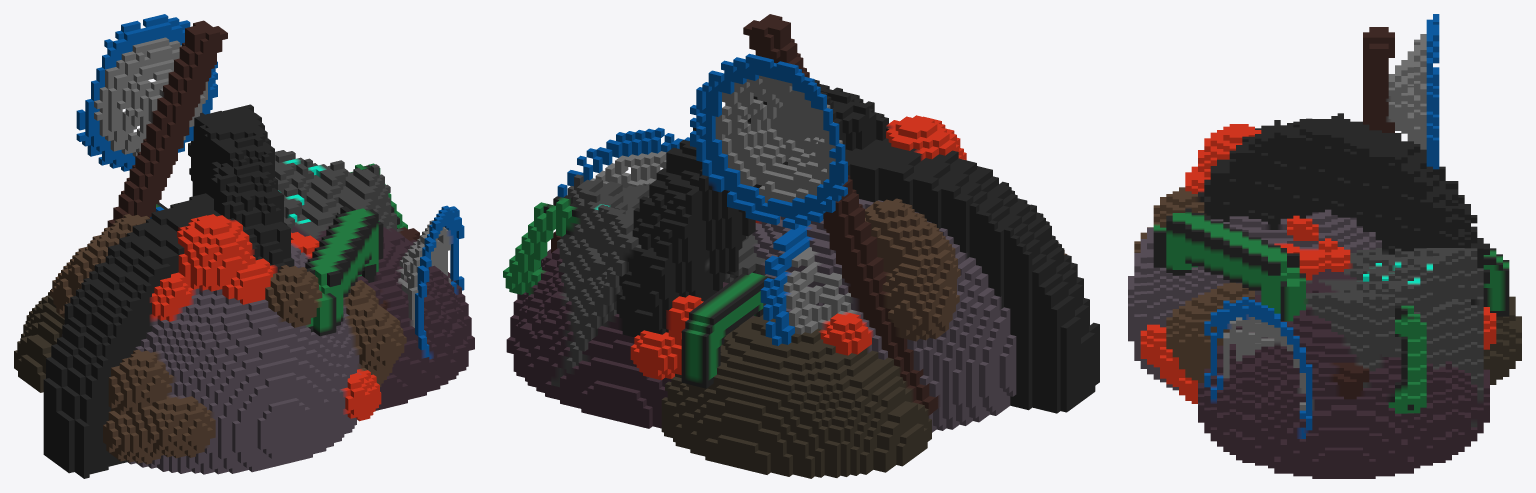
Rendered from Lab-1-SmallJunk.fbx.
3 views of the same model, side by side, from view 1: azimuth 30°, elevation 25°; view 2: azimuth 150°, elevation 25°; view 3: azimuth 270°, elevation 25° (orthographic). The views are drawn at different scales.
Parts seen in each view (by area): view 1: SmallJunk; view 2: SmallJunk; view 3: SmallJunk.
Part boxes in pixels (x1,y1,x2,y2): SmallJunk: (14,14,474,478); SmallJunk: (503,14,1099,478); SmallJunk: (1128,14,1521,478).
Size of the model in its own units: 80 by 58 by 62.
